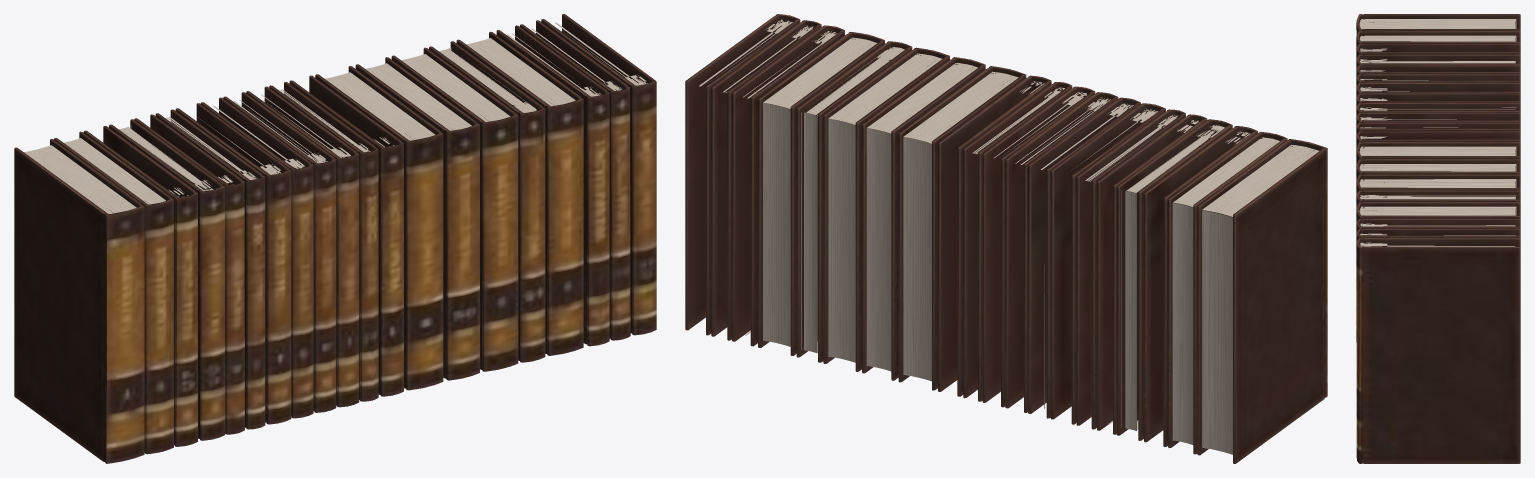
File: books.glb
3 renders of one model, left to right at view 1: azimuth 30°, elevation 25°; view 2: azimuth 150°, elevation 25°; view 3: azimuth 270°, elevation 25°, orthographic. The views are drawn at different scales.
Visible parts, largest first — view 1: book_encyclopedia_set_01_book01; view 2: book_encyclopedia_set_01_book01; view 3: book_encyclopedia_set_01_book01.
Part boxes in pixels (box(x1,y1,x2,y2)): book_encyclopedia_set_01_book01: box(14, 14, 656, 463); book_encyclopedia_set_01_book01: box(685, 14, 1327, 463); book_encyclopedia_set_01_book01: box(1356, 14, 1520, 463).
Size of the model in its own units: 0.5513 by 0.2374 by 0.1636.
Materials: 2 (2 with a texture image).
